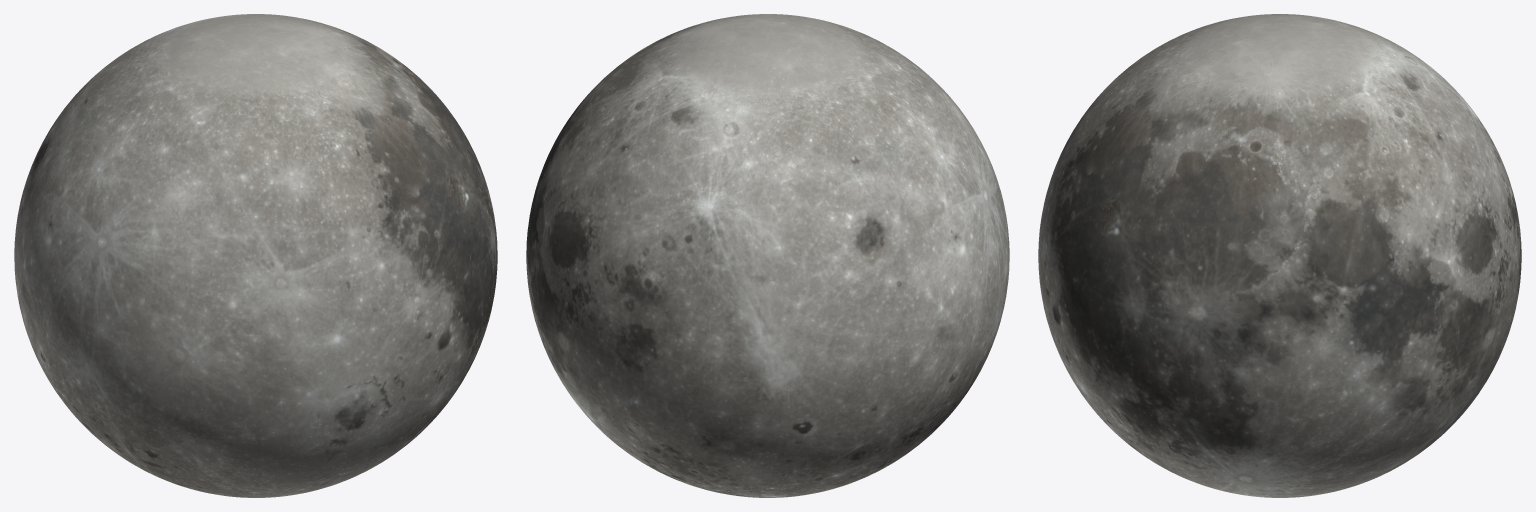
The model's file is Moon.glb.
3 views of the same model, side by side, from view 1: azimuth 30°, elevation 25°; view 2: azimuth 150°, elevation 25°; view 3: azimuth 270°, elevation 25° (orthographic).
Parts seen in each view (by area): view 1: Sphere; view 2: Sphere; view 3: Sphere.
Part boxes in pixels (bbox=[...]): Sphere: bbox=[14, 14, 497, 497]; Sphere: bbox=[526, 14, 1009, 497]; Sphere: bbox=[1038, 14, 1521, 497].
Size of the model in its own units: 1.99 by 2 by 1.99.
1 material, 1 textured.
